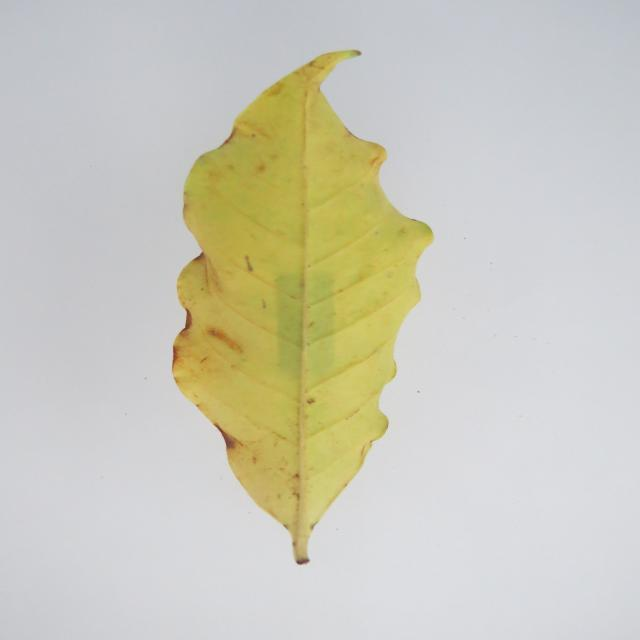DeficienciaNutricional-Calcio: (173, 51, 432, 564)
